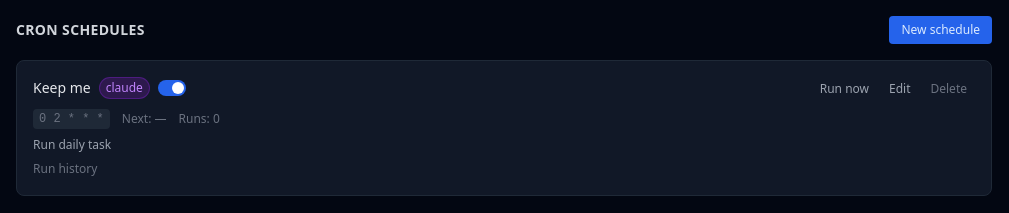
Test case: CronPage › cancels delete when No is clicked
Click the button "Delete" at (949, 89), box [922,77,975,101]
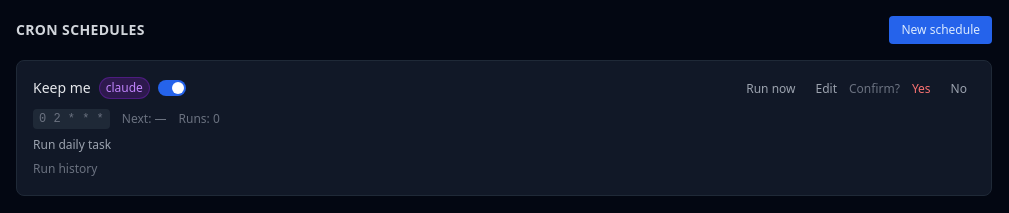
Click the button "No" at (959, 89), box [943,77,975,101]
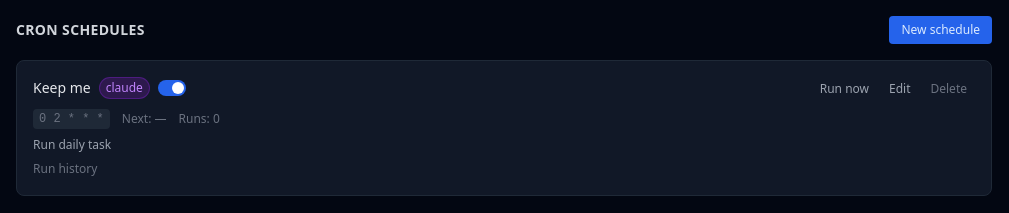
Check: the text "Keep me" is shown, box [33,78,91,98]
Check: the text "Confirm?" is gone
